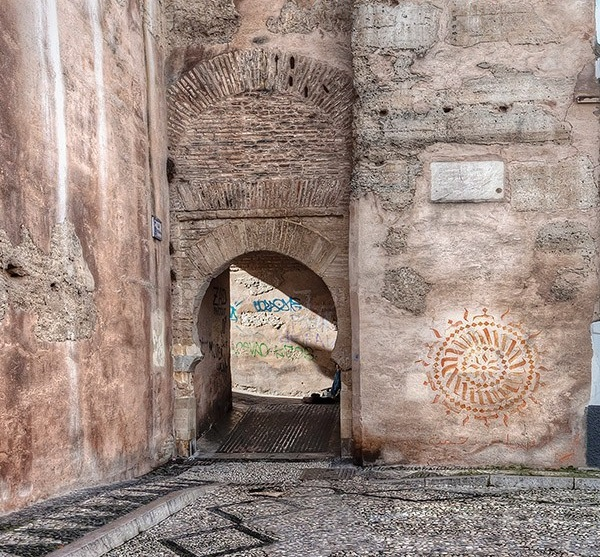arco-herradura: (183, 242, 348, 379)
